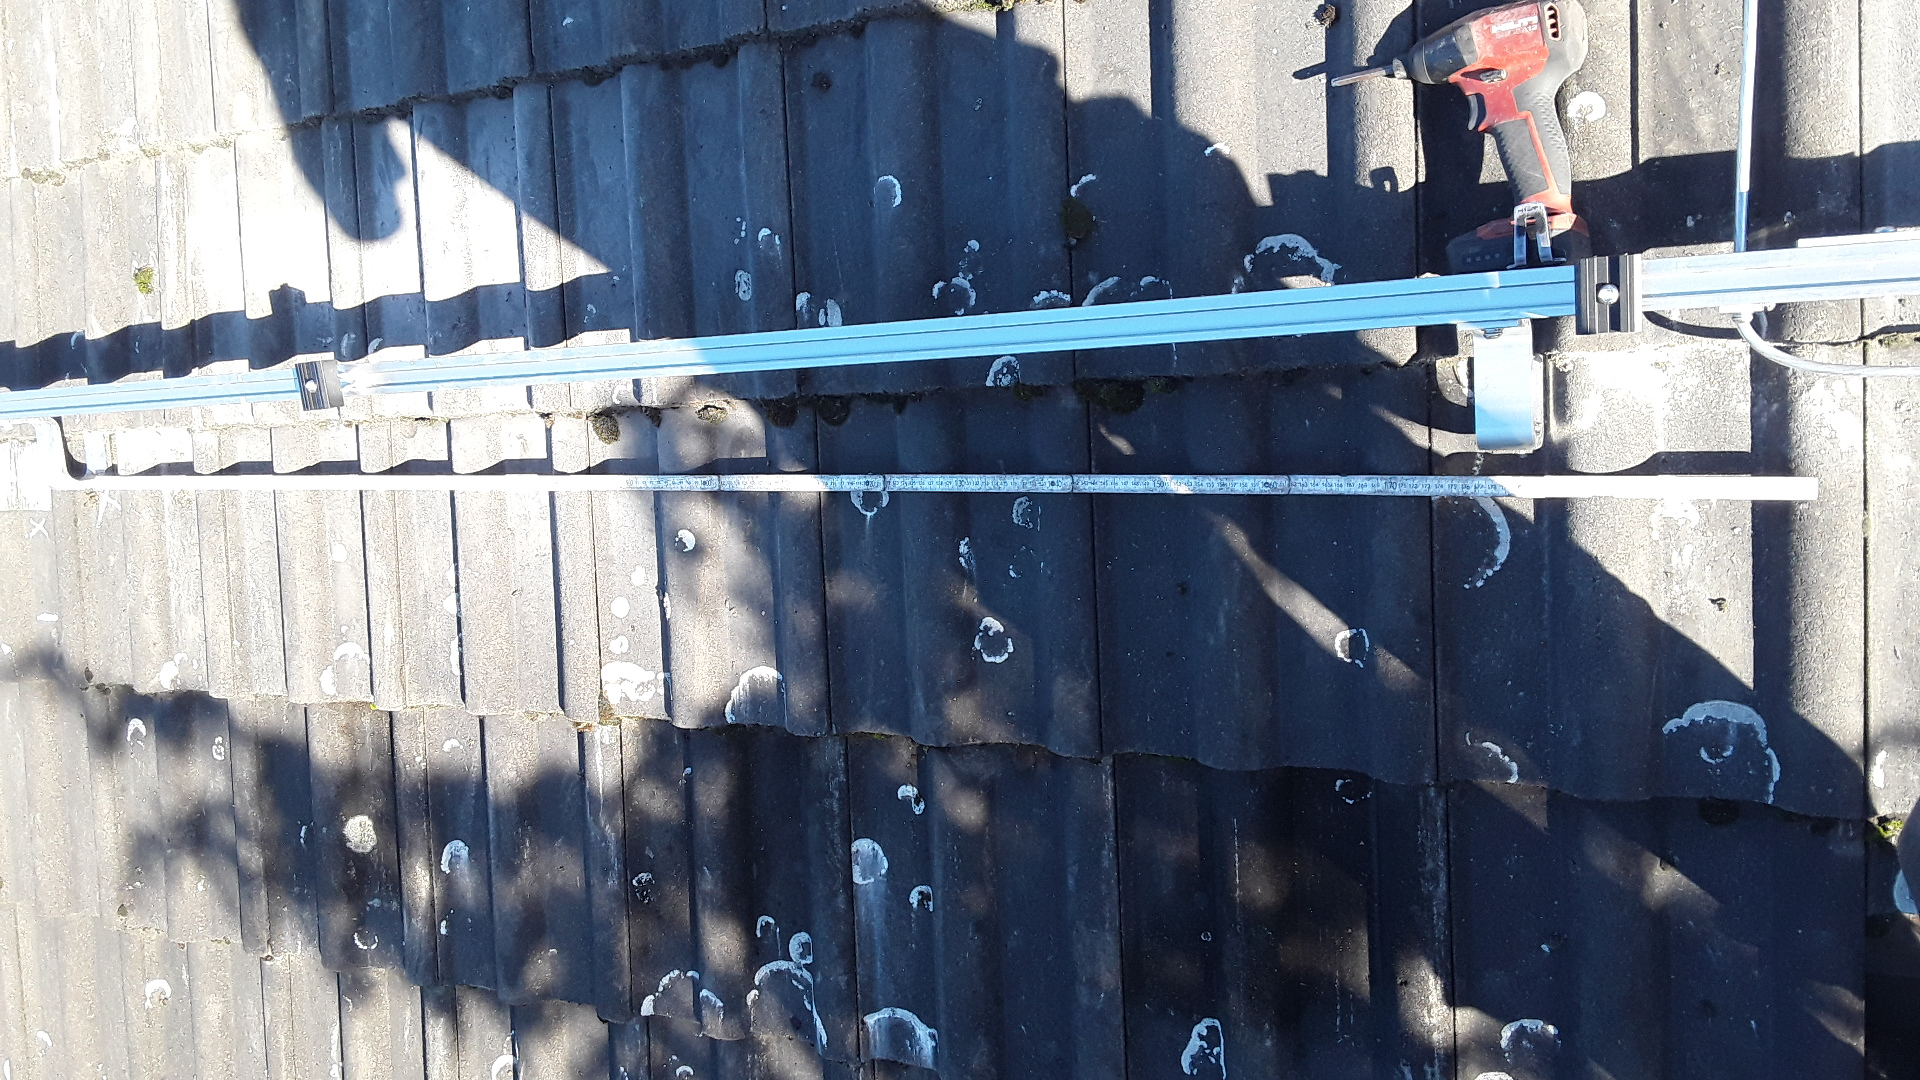hook: (1456, 319, 1544, 448), (11, 418, 112, 491)
